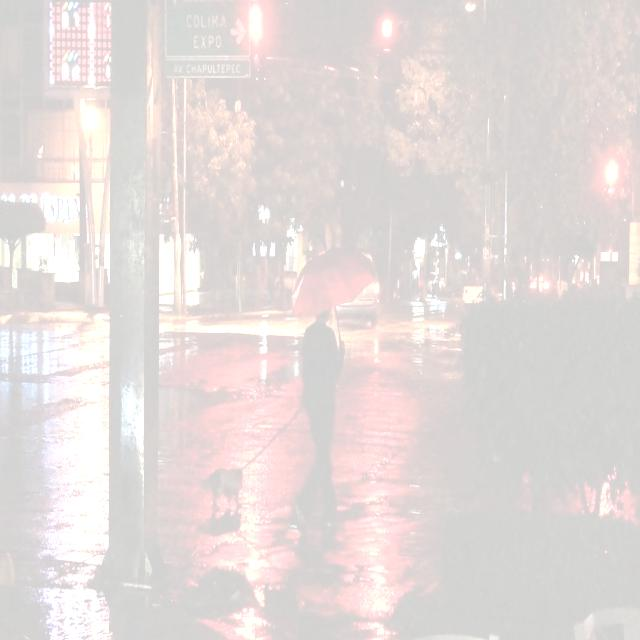Dog: (168, 450, 300, 588)
